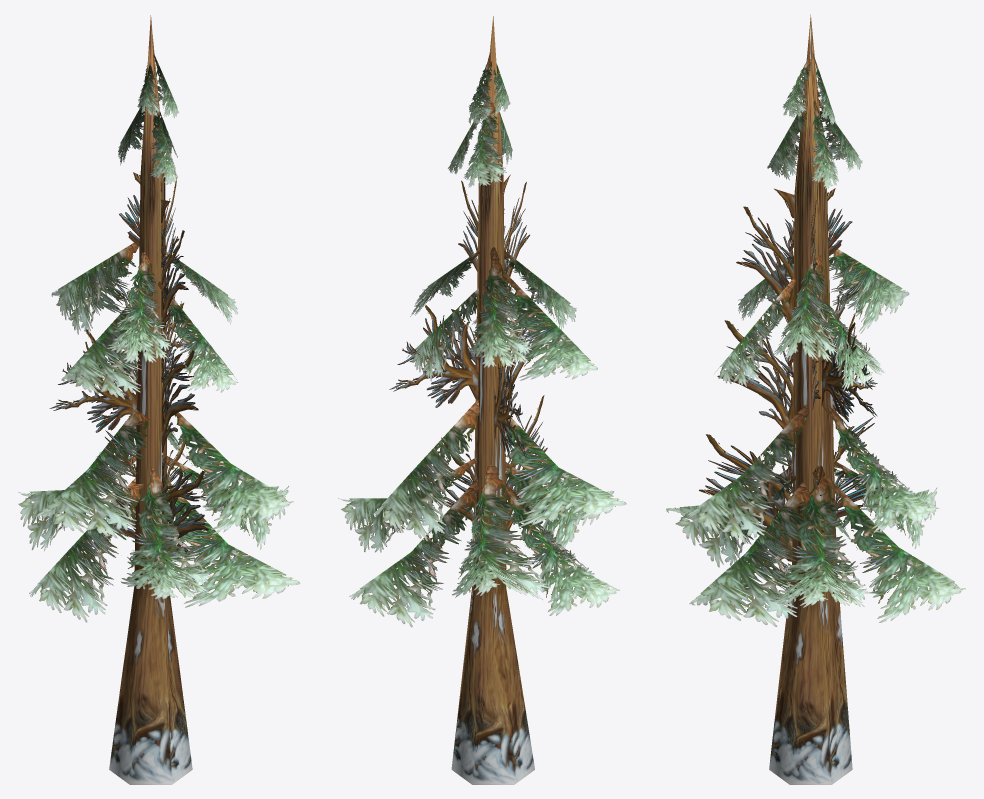
File: wintertree03.obj
3 views of the same model, side by side, from view 1: azimuth 30°, elevation 25°; view 2: azimuth 150°, elevation 25°; view 3: azimuth 270°, elevation 25° (orthographic).
Visible parts, largest first — view 1: Geoset2, Geoset0, Geoset1; view 2: Geoset2, Geoset0, Geoset1; view 3: Geoset2, Geoset0, Geoset1.
Boxes of the visible parts, x1,y1,x2,y2 form: Geoset2: (18, 54, 300, 622); Geoset0: (109, 15, 192, 784); Geoset1: (49, 172, 208, 563); Geoset2: (338, 53, 626, 627); Geoset0: (451, 16, 534, 784); Geoset1: (389, 174, 547, 530); Geoset2: (666, 53, 965, 626); Geoset0: (769, 14, 852, 784); Geoset1: (699, 188, 882, 564).
Bounding box in the file's own units: 21.03 × 54.5 × 20.2.
Materials: 3 (3 with a texture image).
